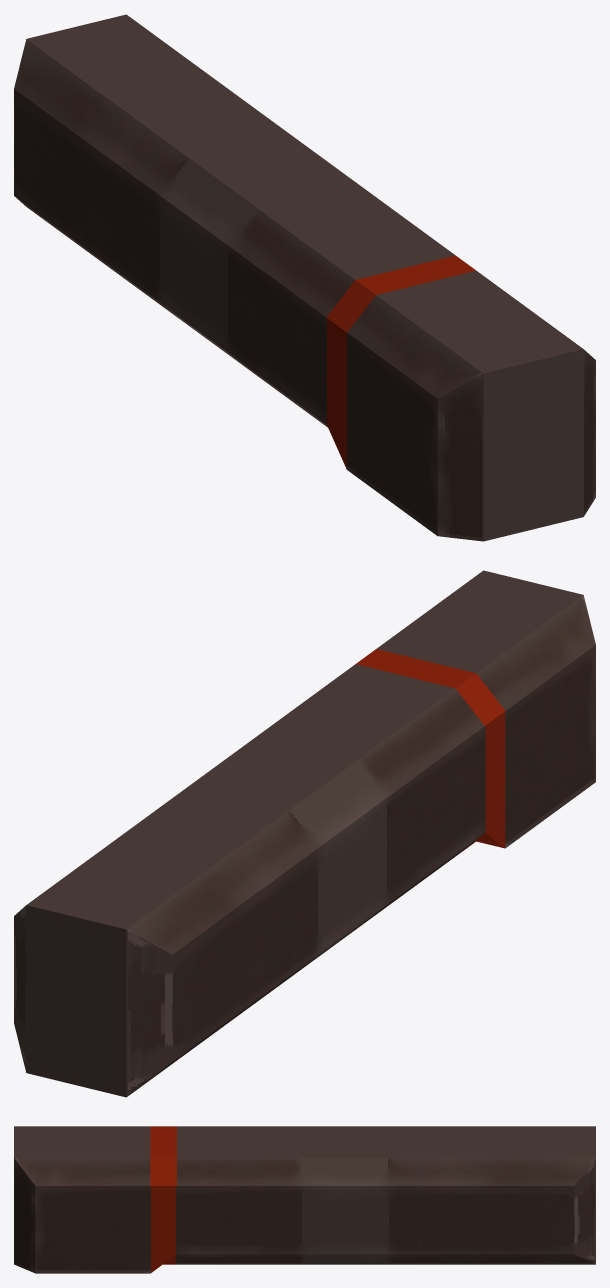
The model's file is smgammo.glb.
The picture shows the model from 3 angles, top to bottom: view 1: azimuth 30°, elevation 25°; view 2: azimuth 150°, elevation 25°; view 3: azimuth 270°, elevation 25°; orthographic projection. The views are drawn at different scales.
Parts seen in each view (by area): view 1: Cube.001; view 2: Cube.001; view 3: Cube.001.
Part boxes in pixels (x1,y1,x2,y2): Cube.001: (14,14,595,541); Cube.001: (14,570,595,1097); Cube.001: (14,1126,595,1273).
Size of the model in its own units: 0.0858 by 0.0869 by 0.4288.
1 material, 1 textured.
